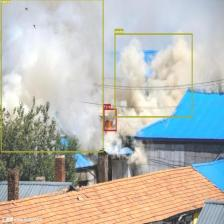fire: (104, 108, 116, 131)
smoke: (1, 0, 103, 152), (114, 33, 192, 117)
